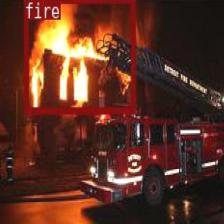fire: (24, 0, 134, 112)
